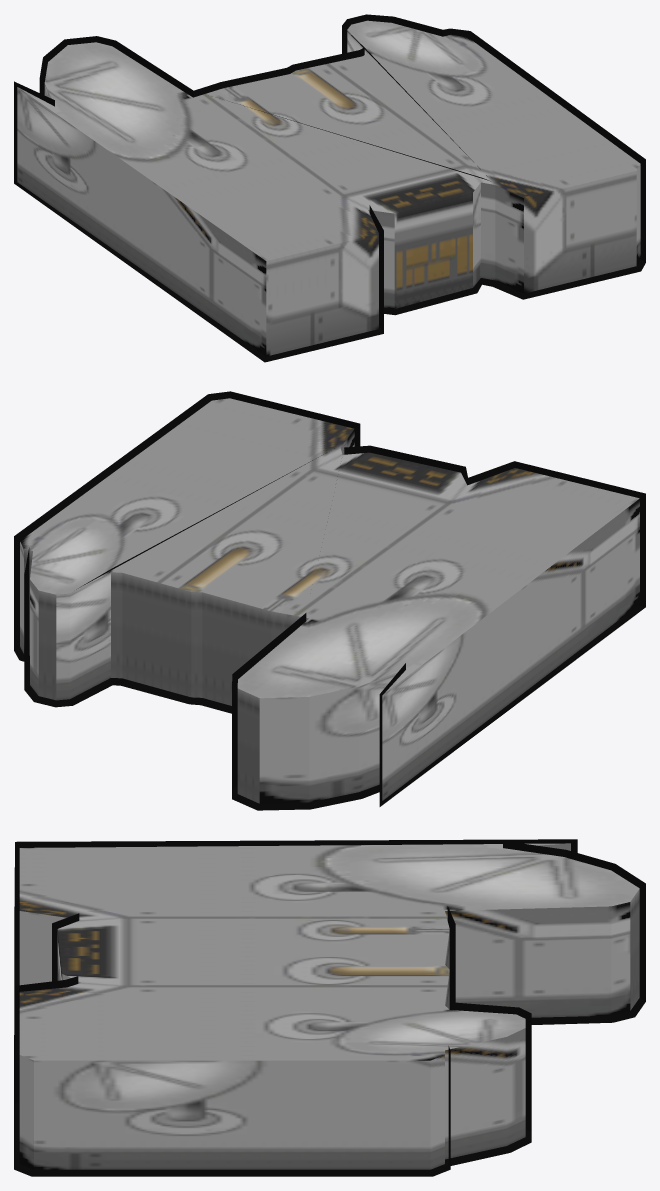
The model's file is Building_CommsConsole_Things_Building_Misc_CommsConsole.glb.
3 views of the same model, one above another, from view 1: azimuth 30°, elevation 25°; view 2: azimuth 150°, elevation 25°; view 3: azimuth 270°, elevation 25° (orthographic). The views are drawn at different scales.
Visible parts, largest first — view 1: Body, Outline; view 2: Body, Outline; view 3: Body, Outline.
Part boxes in pixels (x1,y1,x2,y2): Body: (17, 20, 640, 356); Outline: (14, 14, 645, 362); Body: (20, 398, 639, 803); Outline: (14, 391, 645, 810); Body: (19, 843, 639, 1169); Outline: (14, 839, 645, 1176).
Size of the model in its own units: 1.53 by 0.4001 by 1.86.
2 materials, 1 textured.
